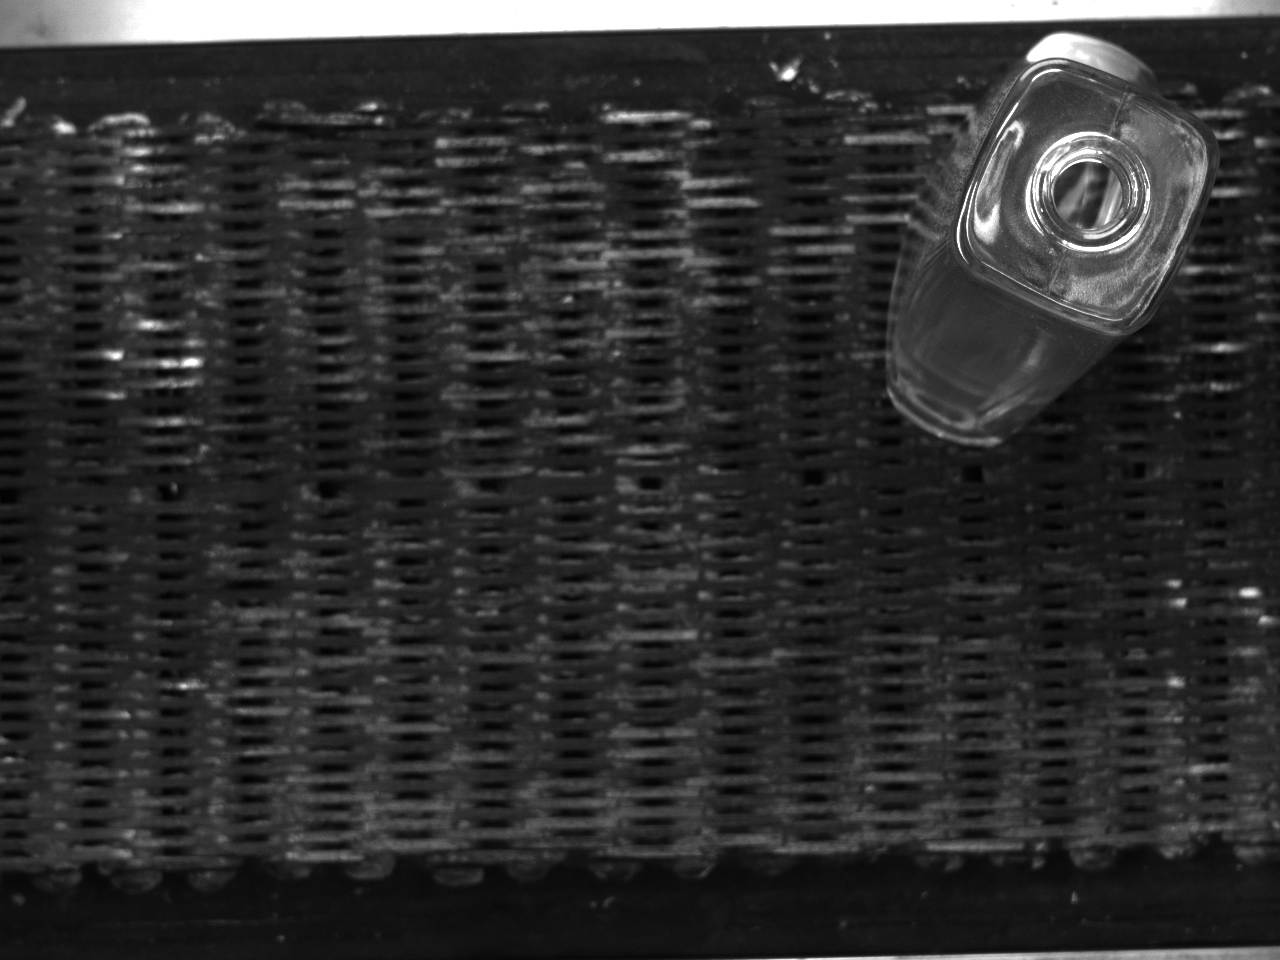bottleneck: (1030, 132, 1153, 251)
